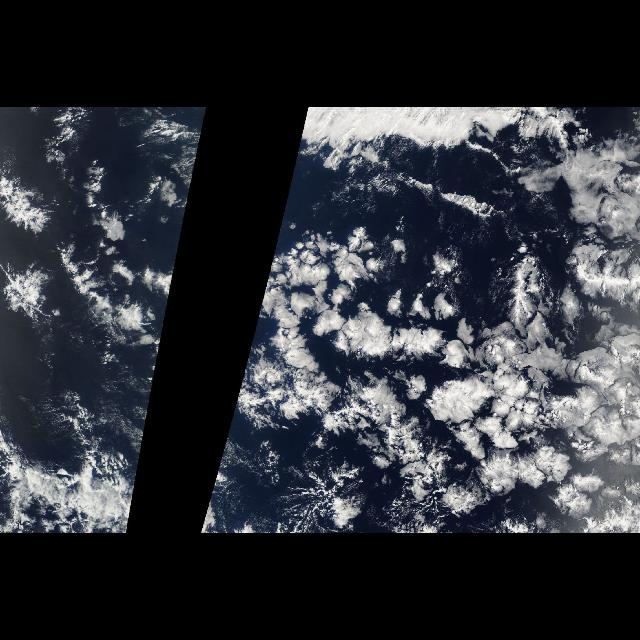Flower: (232, 214, 640, 534)
